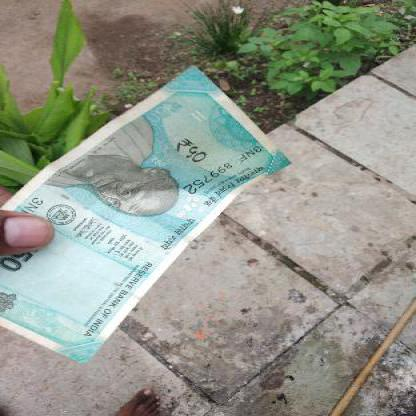New50Front: (0, 66, 288, 340)
